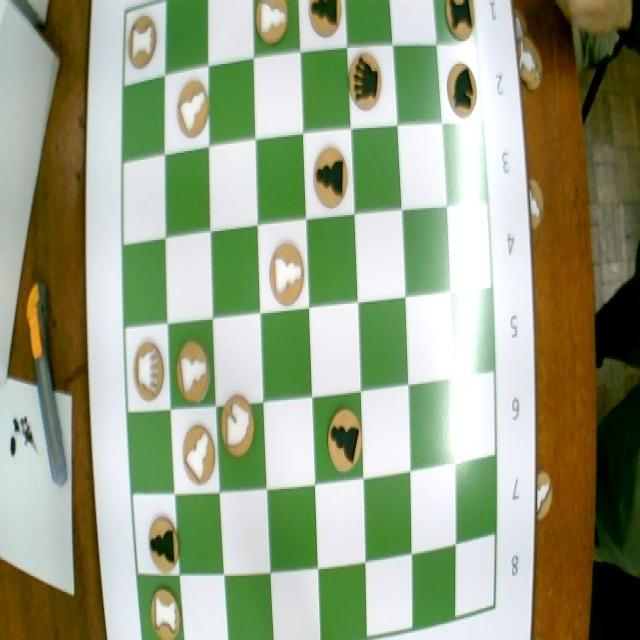chess-pieces: (258, 222, 309, 313), (318, 399, 363, 481), (347, 42, 389, 126), (144, 501, 185, 578), (308, 139, 352, 209), (170, 337, 215, 405), (130, 335, 170, 410), (217, 390, 258, 463), (175, 421, 218, 490), (441, 59, 482, 129), (170, 77, 210, 147), (126, 9, 160, 76), (145, 586, 182, 640), (302, 0, 344, 41), (442, 0, 479, 46), (252, 0, 288, 47)
